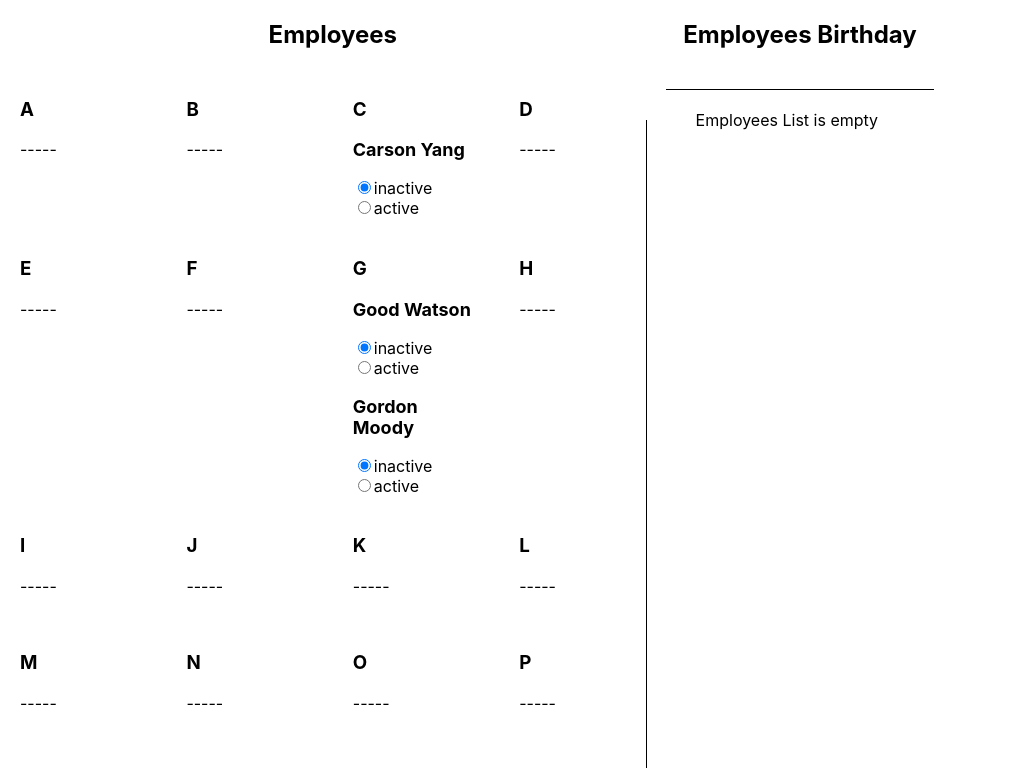
it: displays months starting from May
Click the radio button labelled "active" below "Carson Yang" at (364, 208), box x1=358 y1=201 x2=371 y2=214
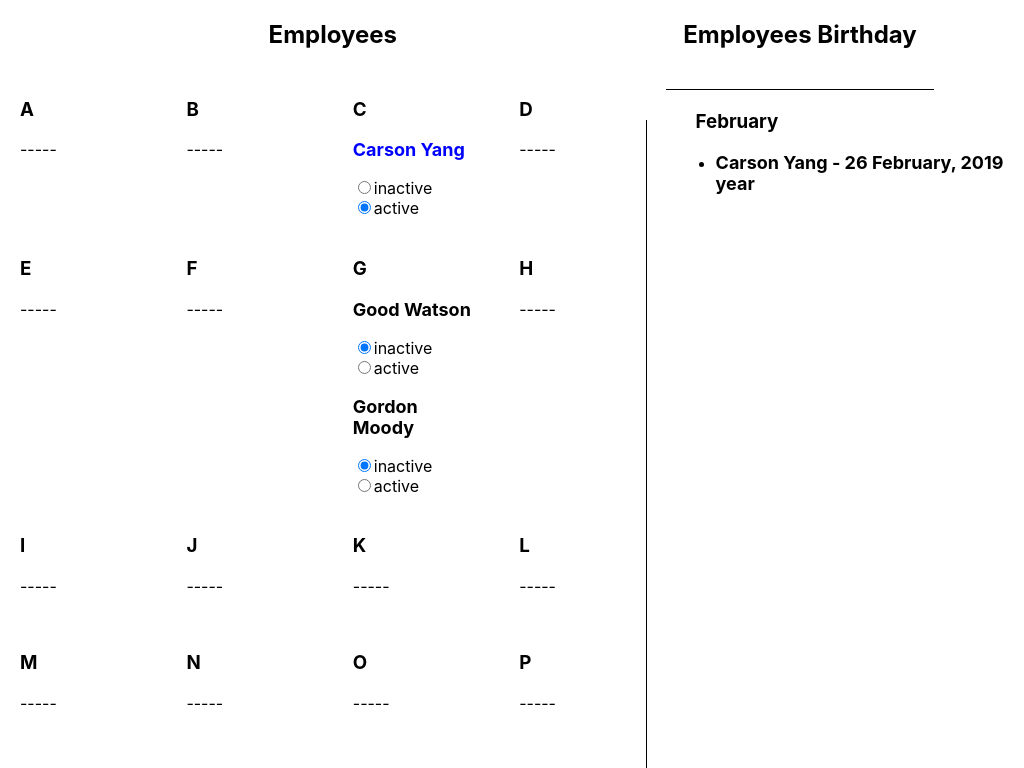
Click the radio button labelled "active" below "Good Watson" at (364, 367), box x1=358 y1=361 x2=371 y2=374
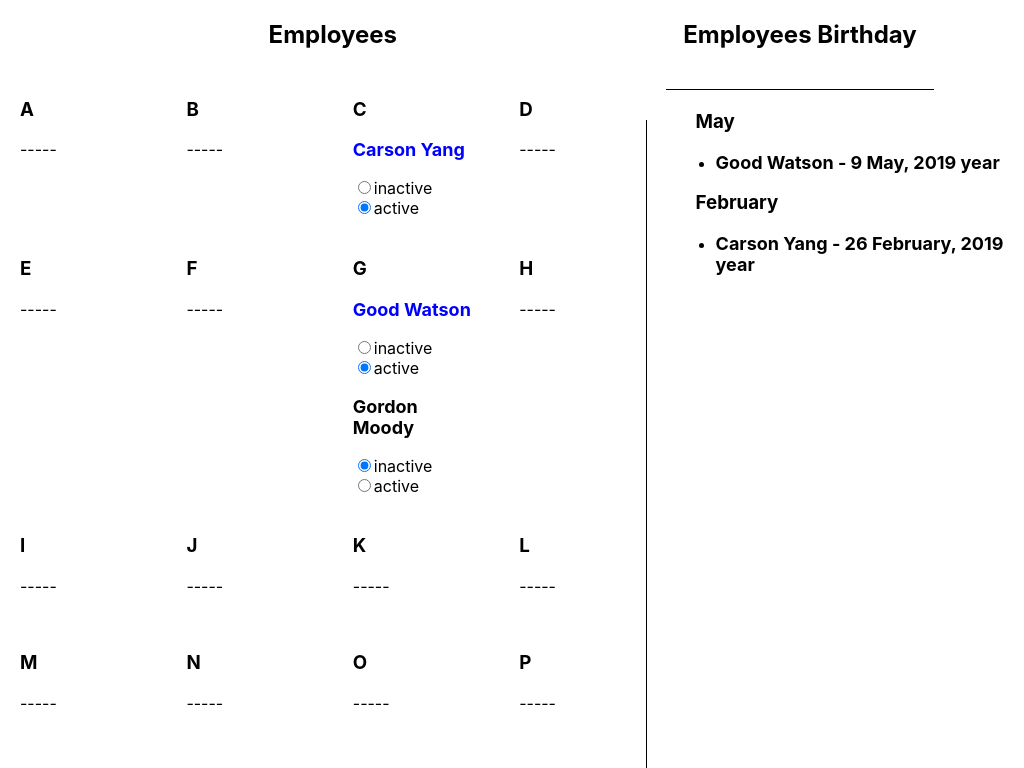
Click the radio button labelled "active" below "Gordon Moody" at (364, 485), box x1=358 y1=479 x2=371 y2=492
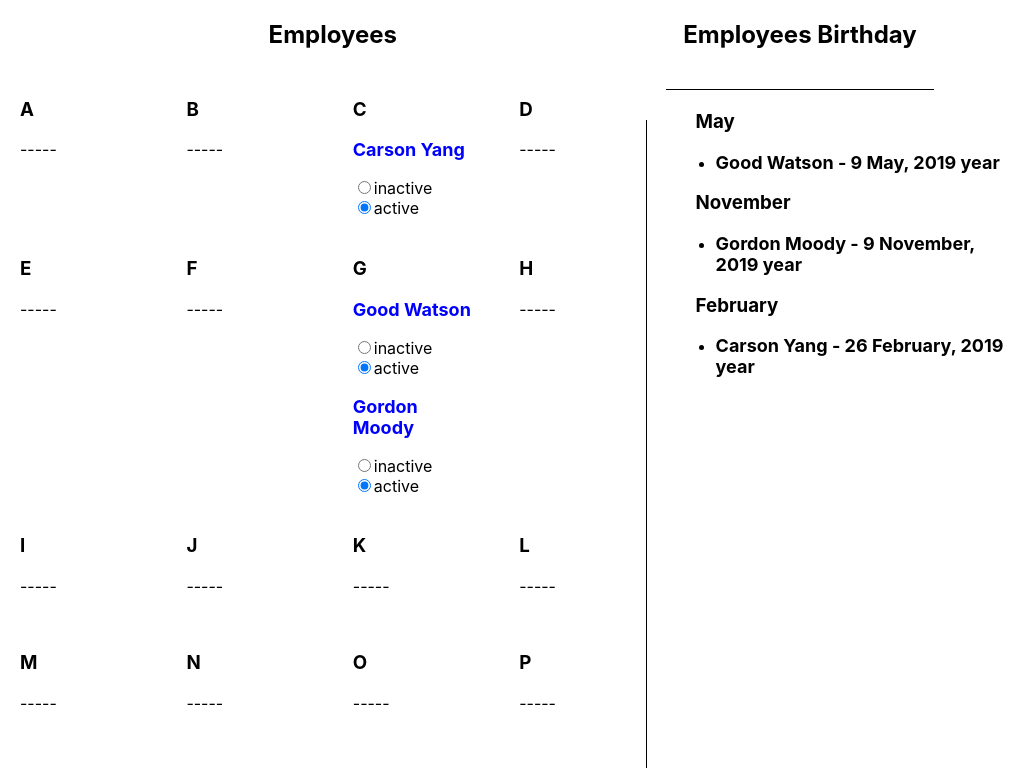
Result: the heading "February" is shown at x1=696 y1=294 x2=778 y2=317
Result: the heading "May" is shown at x1=696 y1=110 x2=735 y2=133
Result: the heading "November" is shown at x1=696 y1=191 x2=791 y2=214
